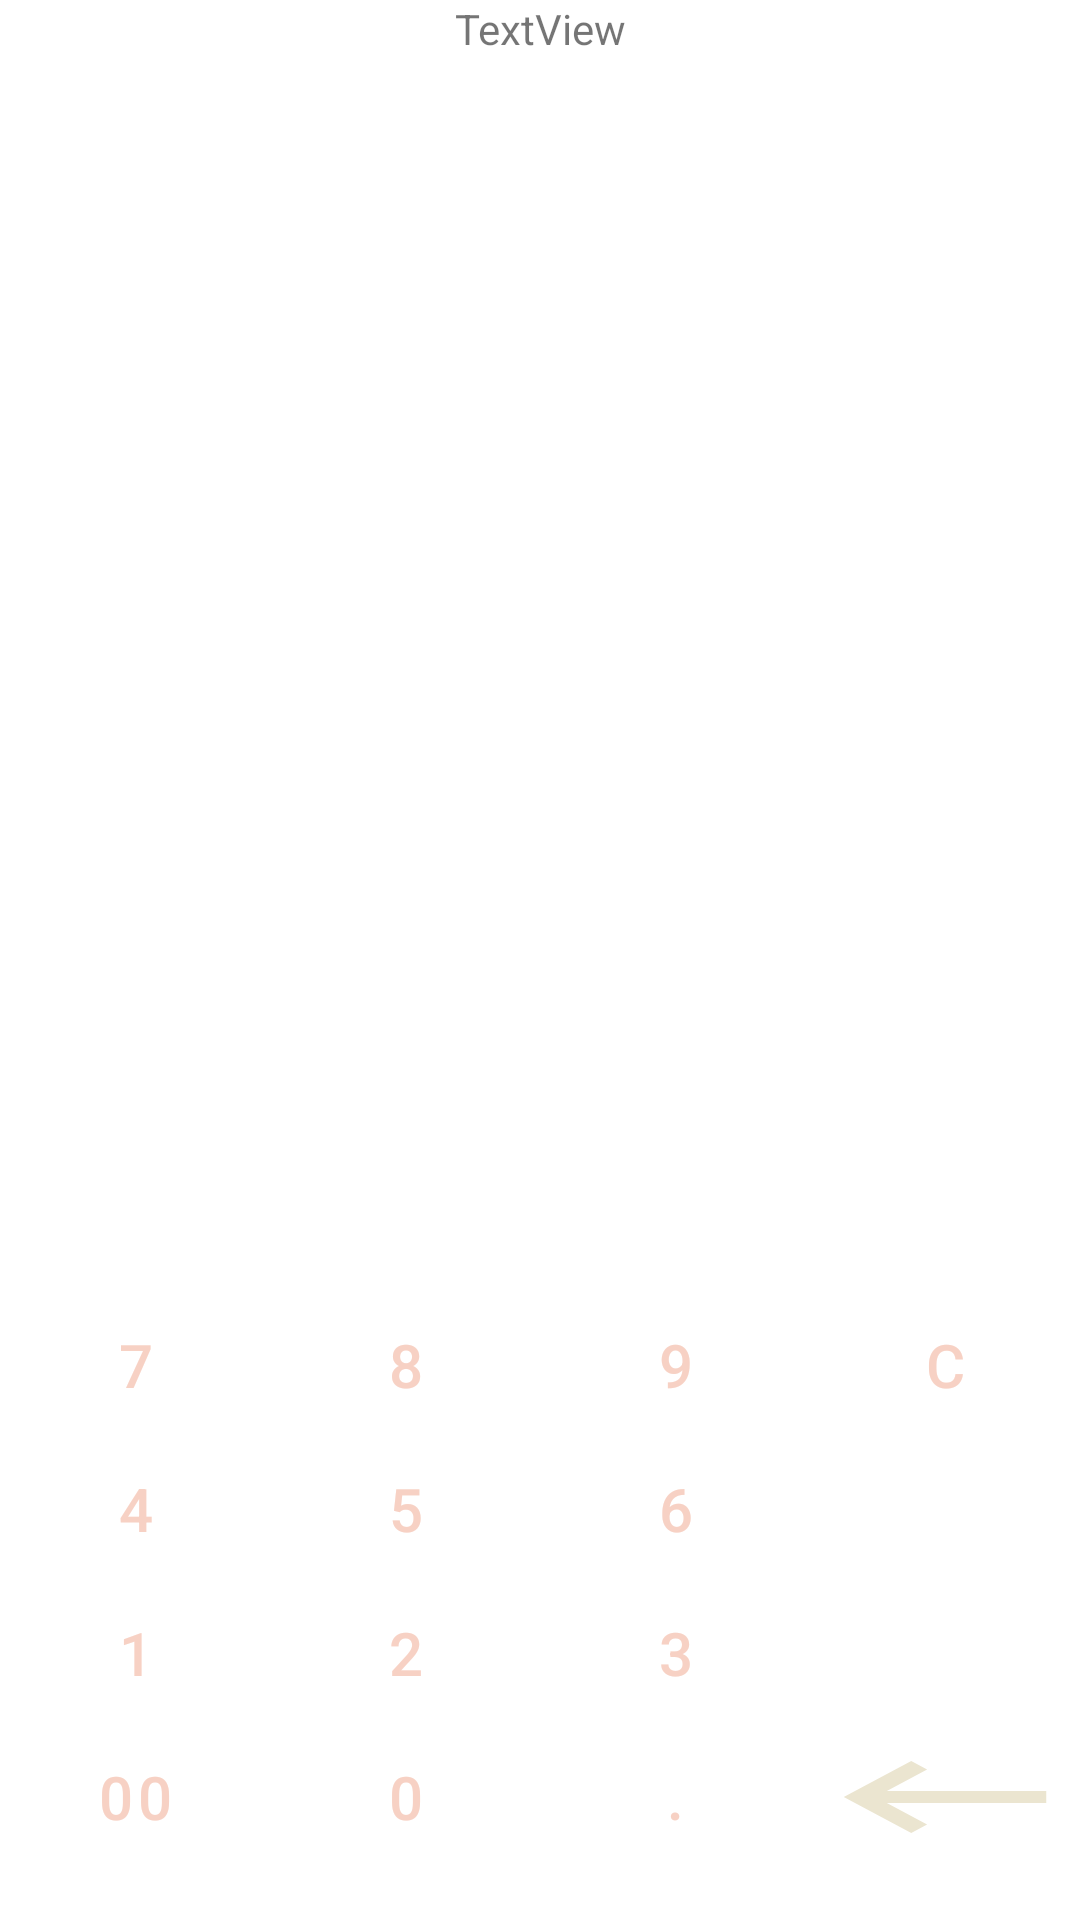

Icons on this 1080 × 1920 Android screen, each with its box as (x1, y1, x2, y2):
keyboard backspace: (845, 1761, 1046, 1833)
